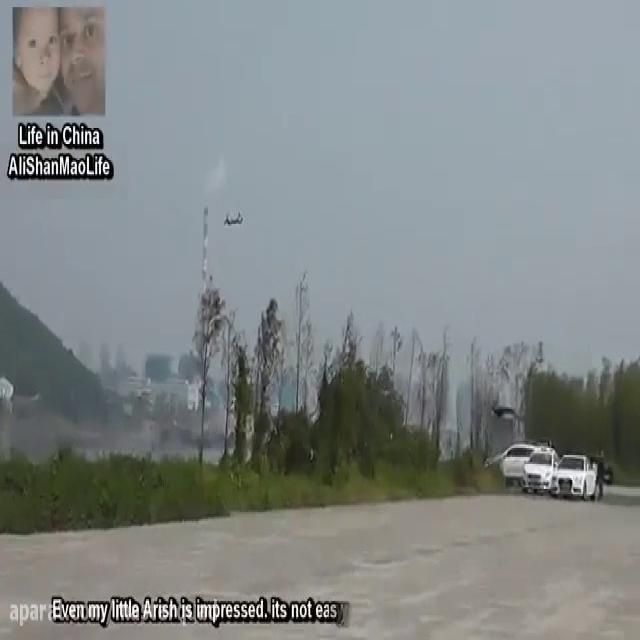drone: (221, 202, 245, 228)
